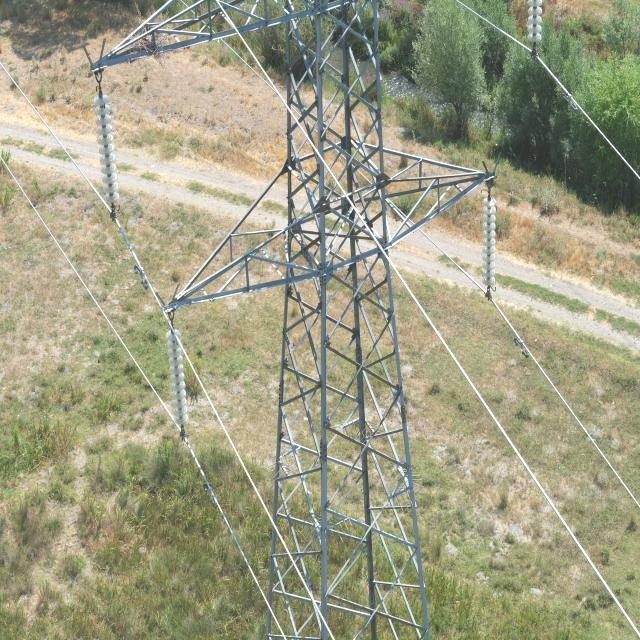voltage_line: (160, 0, 493, 640)
